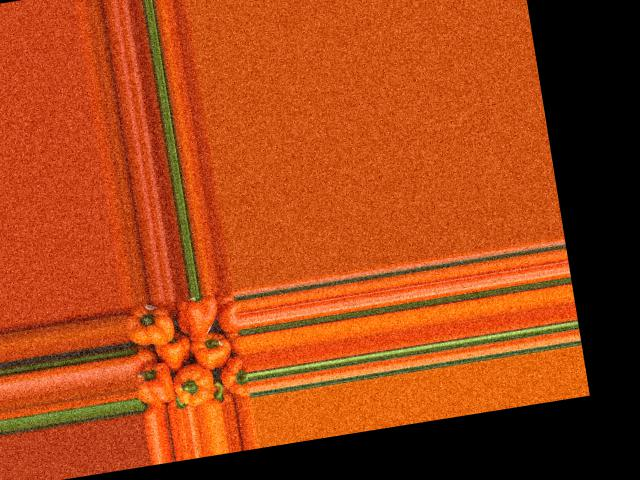bell_pepper: (214, 288, 239, 335)
